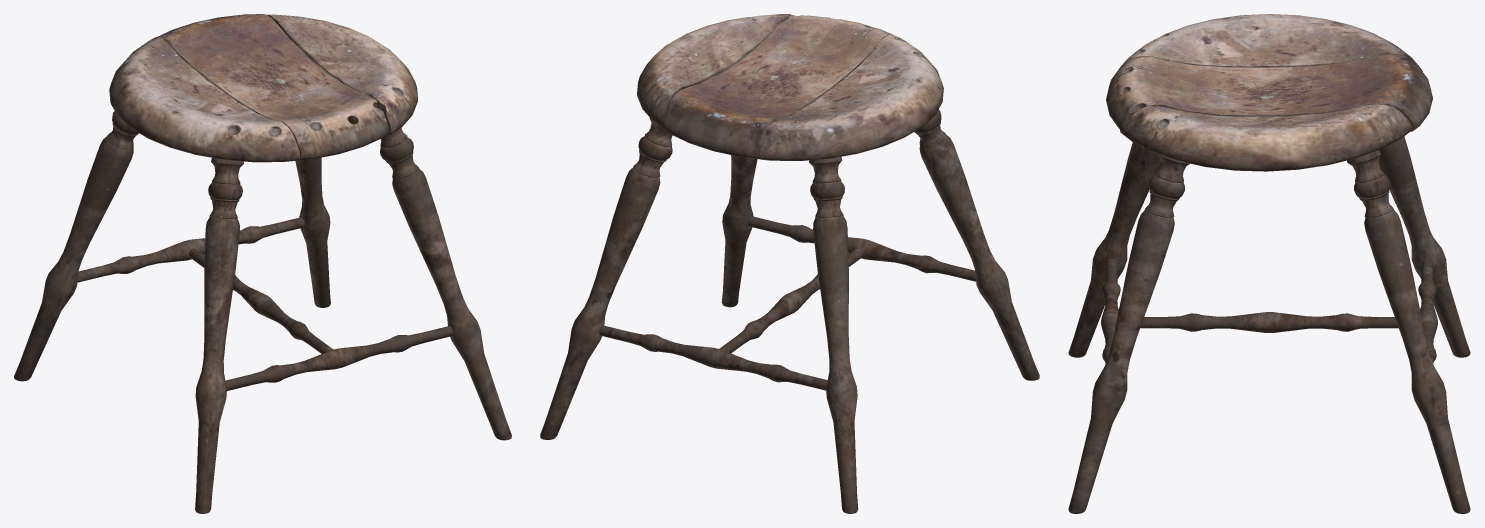
The model's file is wooden_stool_01.glb.
The picture shows the model from 3 angles, left to right: view 1: azimuth 30°, elevation 25°; view 2: azimuth 150°, elevation 25°; view 3: azimuth 270°, elevation 25°; orthographic projection. The views are drawn at different scales.
Visible parts, largest first — view 1: wooden_stool_01; view 2: wooden_stool_01; view 3: wooden_stool_01.
Boxes of the visible parts, x1,y1,x2,y2 form: wooden_stool_01: [14, 14, 511, 513]; wooden_stool_01: [540, 14, 1039, 513]; wooden_stool_01: [1068, 14, 1470, 513].
Size of the model in its own units: 0.4254 by 0.4373 by 0.4424.
Materials: 1 (1 with a texture image).
